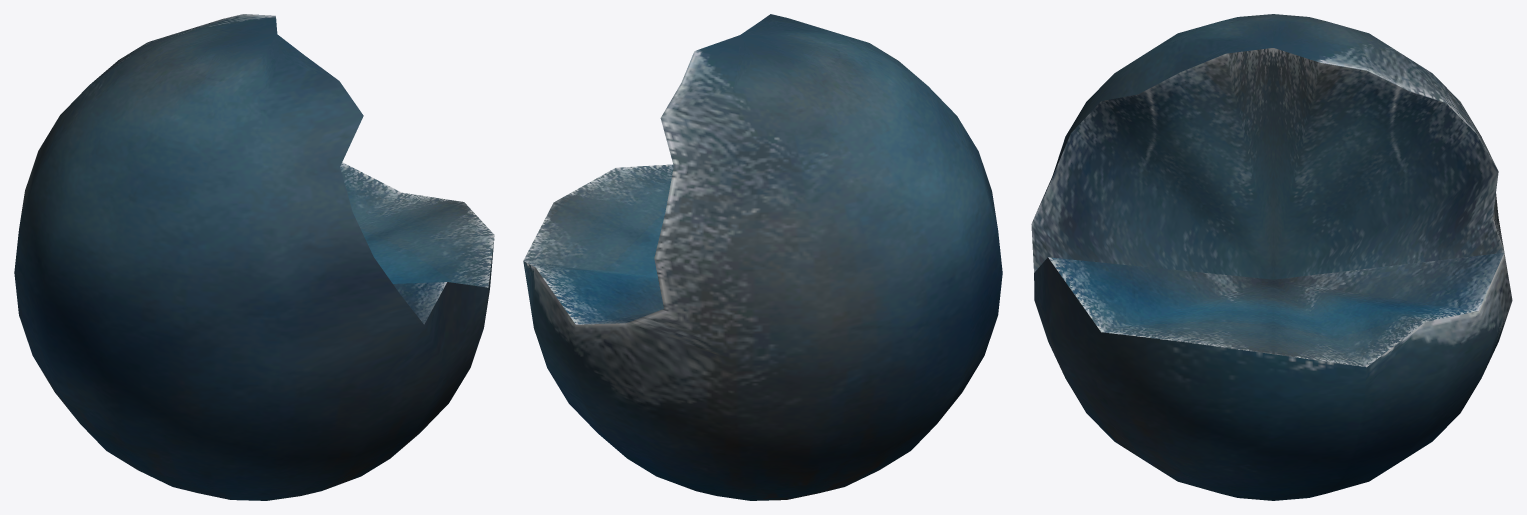
The model's file is orb_4_of_6.dae.
3 renders of one model, left to right at view 1: azimuth 30°, elevation 25°; view 2: azimuth 150°, elevation 25°; view 3: azimuth 270°, elevation 25°, orthographic.
Visible parts, largest first — view 1: orb4; view 2: orb4; view 3: orb4.
Part boxes in pixels (x1,y1,x2,y2): orb4: (14,14,494,500); orb4: (523,14,1002,500); orb4: (1031,14,1512,500).
Bounding box in the file's own units: 0.4044 × 0.4044 × 0.3991.
